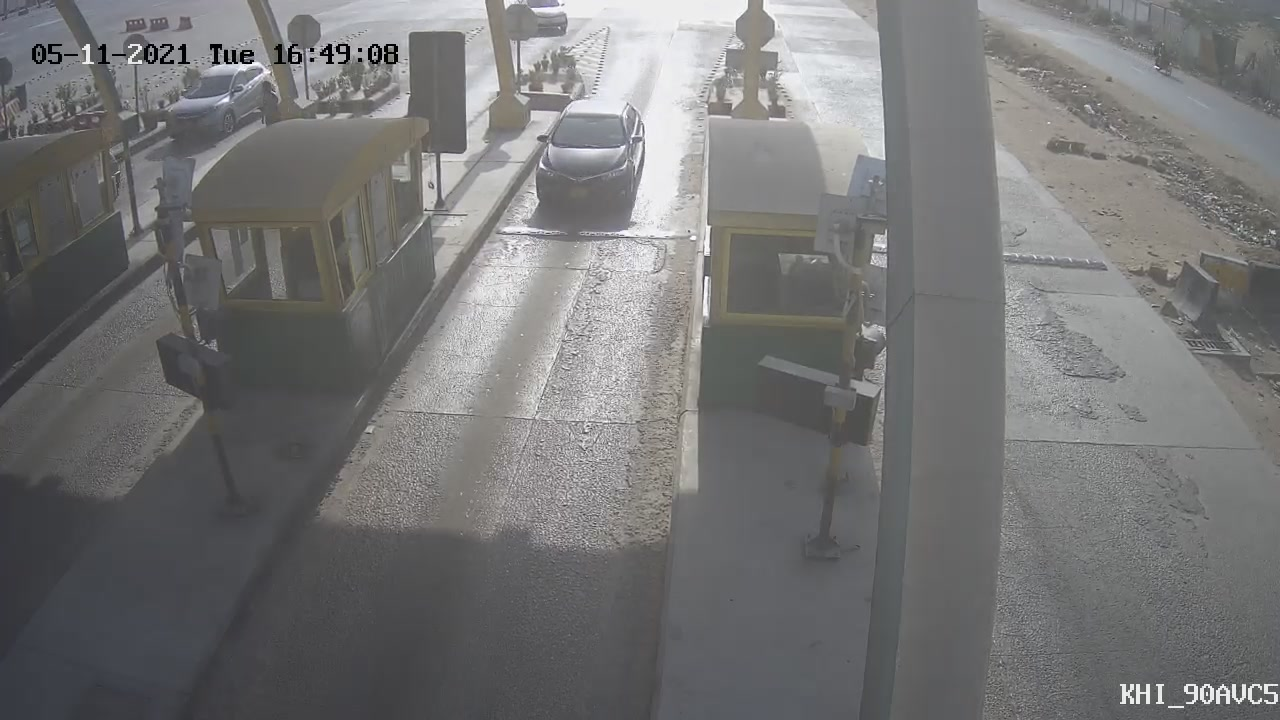F1: (514, 85, 661, 234)
